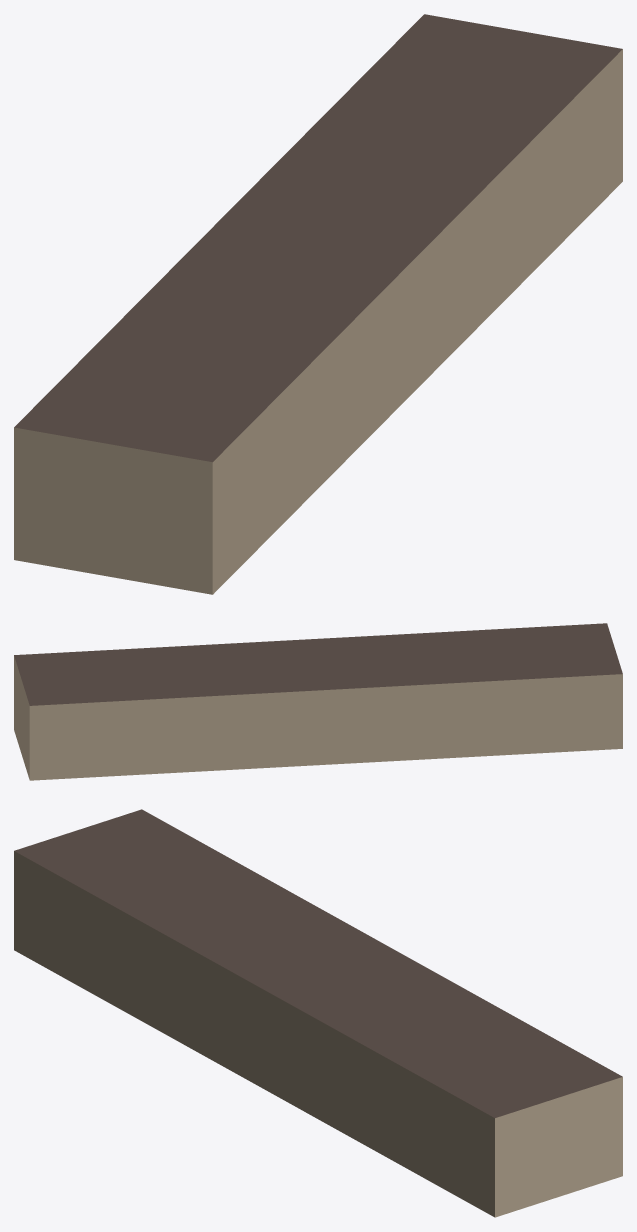
The picture shows the model from 3 angles, top to bottom: view 1: azimuth 30°, elevation 25°; view 2: azimuth 150°, elevation 25°; view 3: azimuth 270°, elevation 25°; orthographic projection. The views are drawn at different scales.
Parts seen in each view (by area): view 1: HP-w1287058599; view 2: HP-w1287058599; view 3: HP-w1287058599.
Part boxes in pixels (x1,y1,x2,y2): HP-w1287058599: (14,14,622,594); HP-w1287058599: (14,623,622,780); HP-w1287058599: (14,809,622,1217).
Bounding box in the file's own units: 59.99 × 9 × 49.98.
